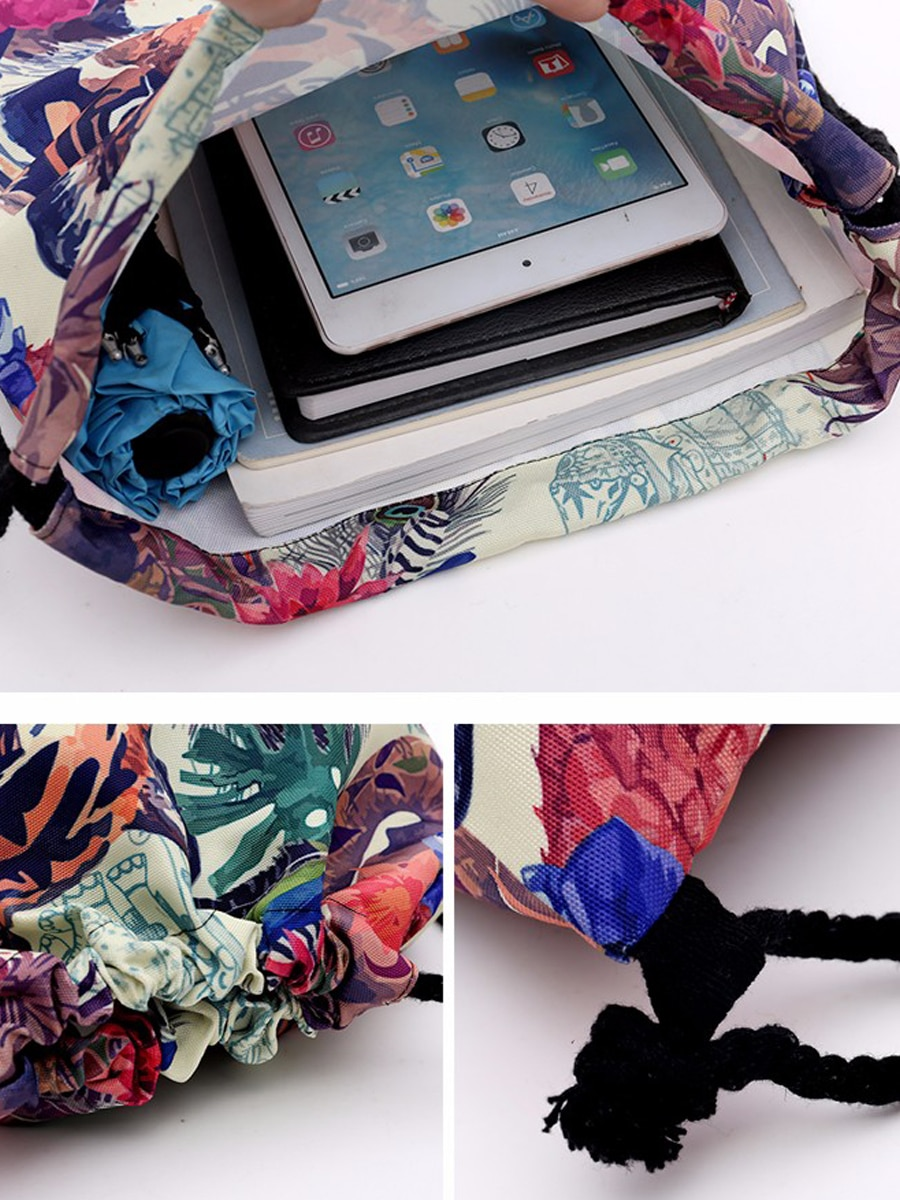Computers&Acc|Computers & Tablets: (230, 7, 735, 356)
Men's Backpacks: (1, 1, 900, 627)
